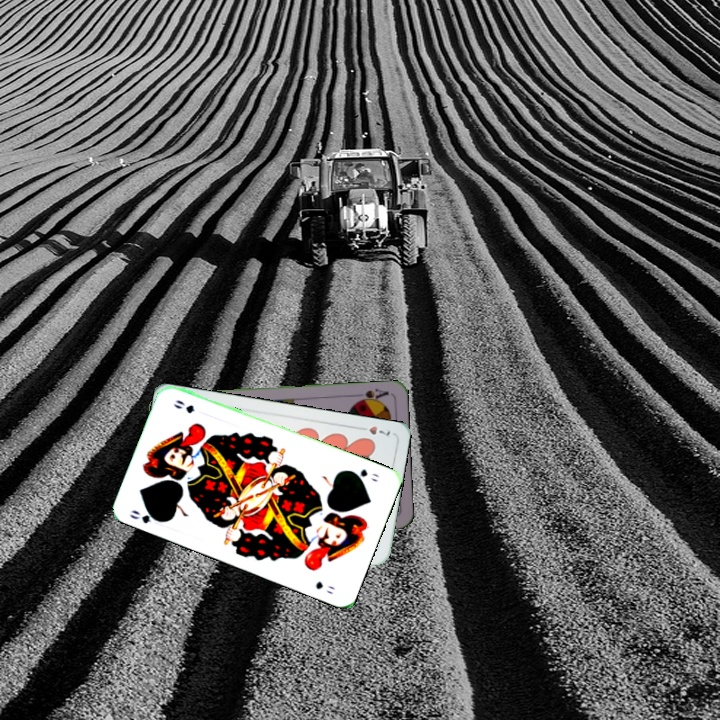GO: (126, 505, 166, 526), (345, 465, 382, 485)
H7: (354, 422, 393, 438)
SA: (351, 384, 391, 405)
